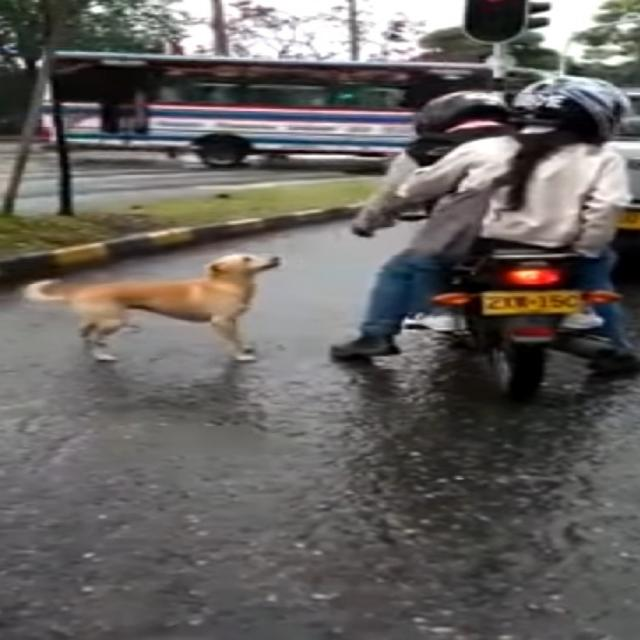dog: (32, 244, 311, 382)
